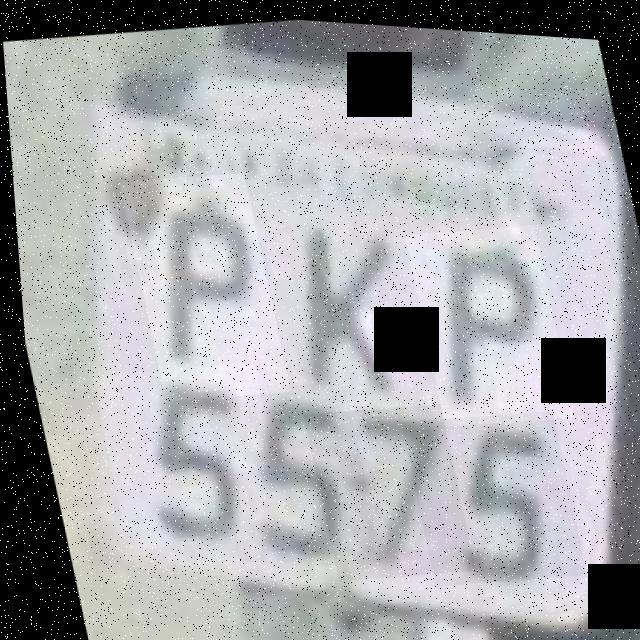5: (85, 352, 284, 556), (196, 370, 376, 577), (393, 395, 580, 589)
7: (296, 391, 469, 584)
K: (252, 193, 421, 405)
P: (116, 164, 286, 408), (400, 211, 570, 428)
